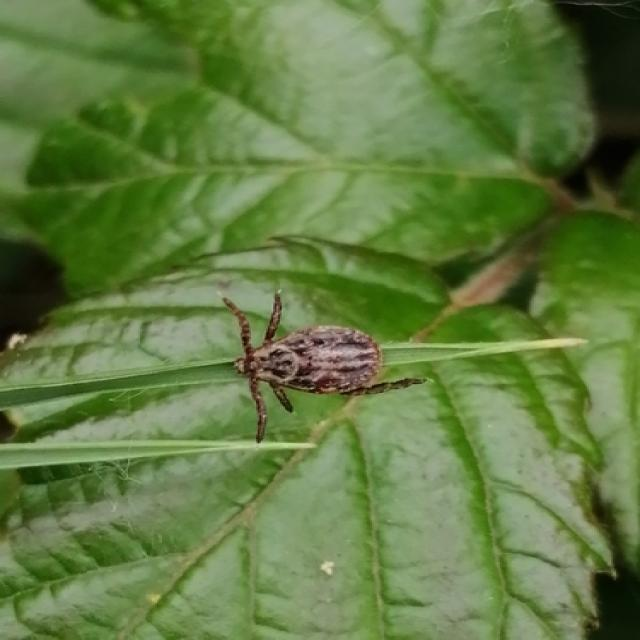Dermacentor Reticulatus-M: (222, 289, 427, 444)
